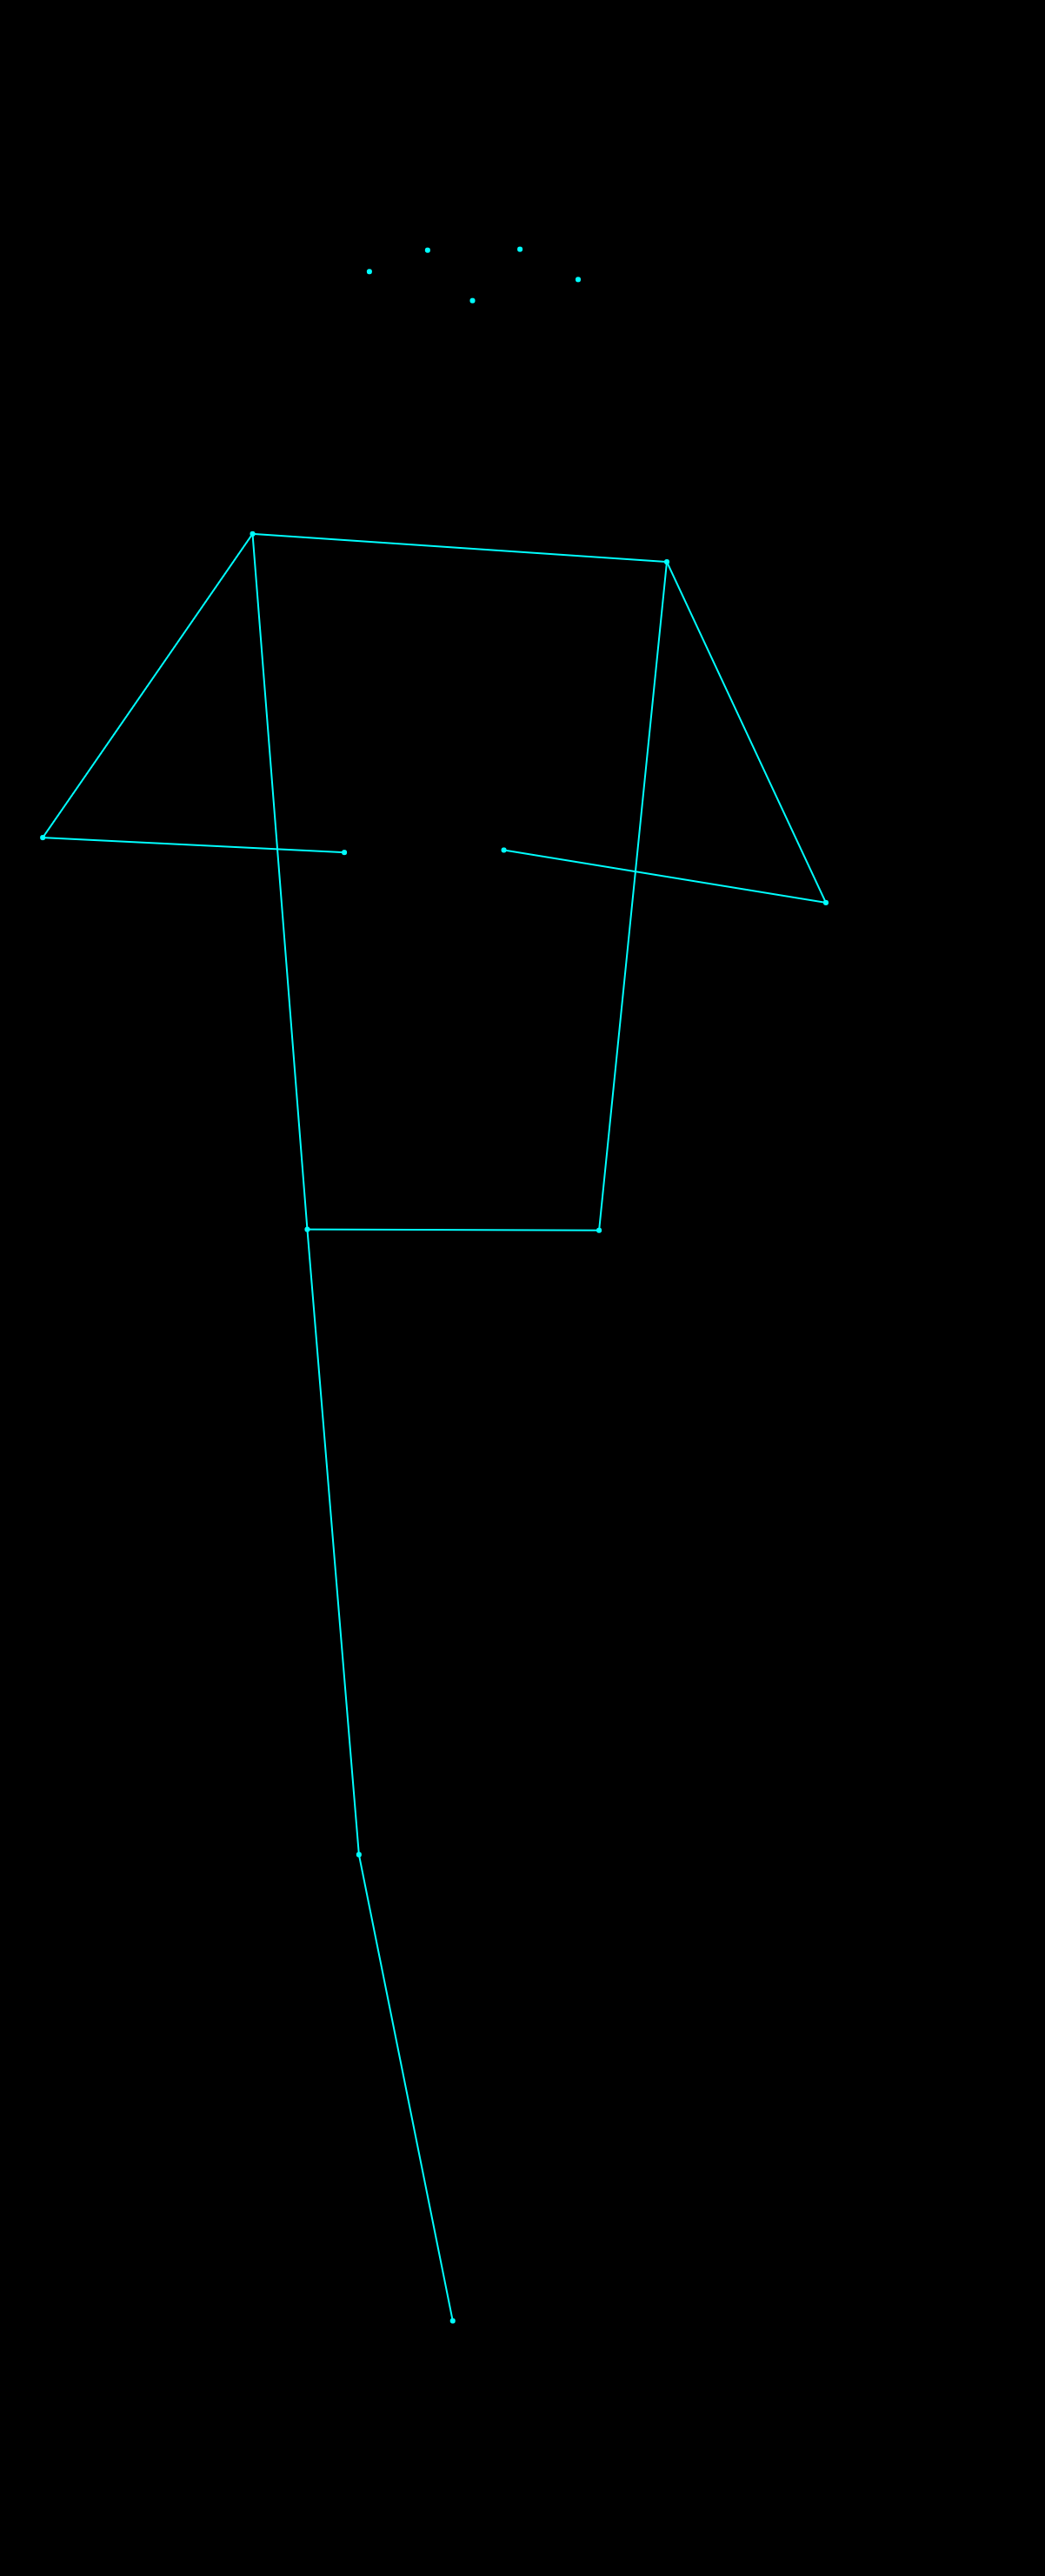tree: (8, 153, 846, 2328)
